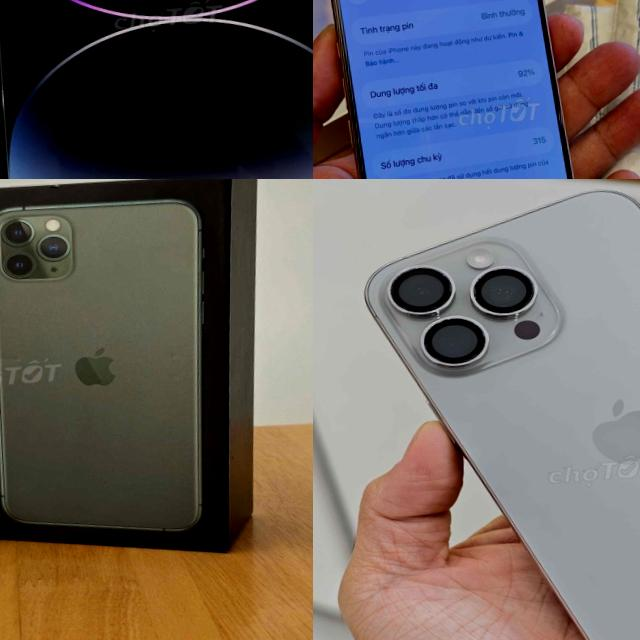gen_16: (365, 190, 640, 640), (313, 0, 614, 179)
gen_x_xs: (0, 0, 313, 179)
